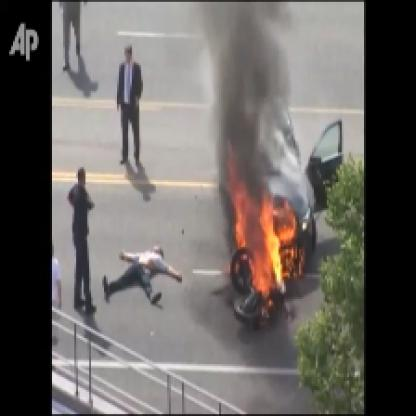Fire: (226, 184, 302, 312)
Smoke: (198, 2, 278, 191)
